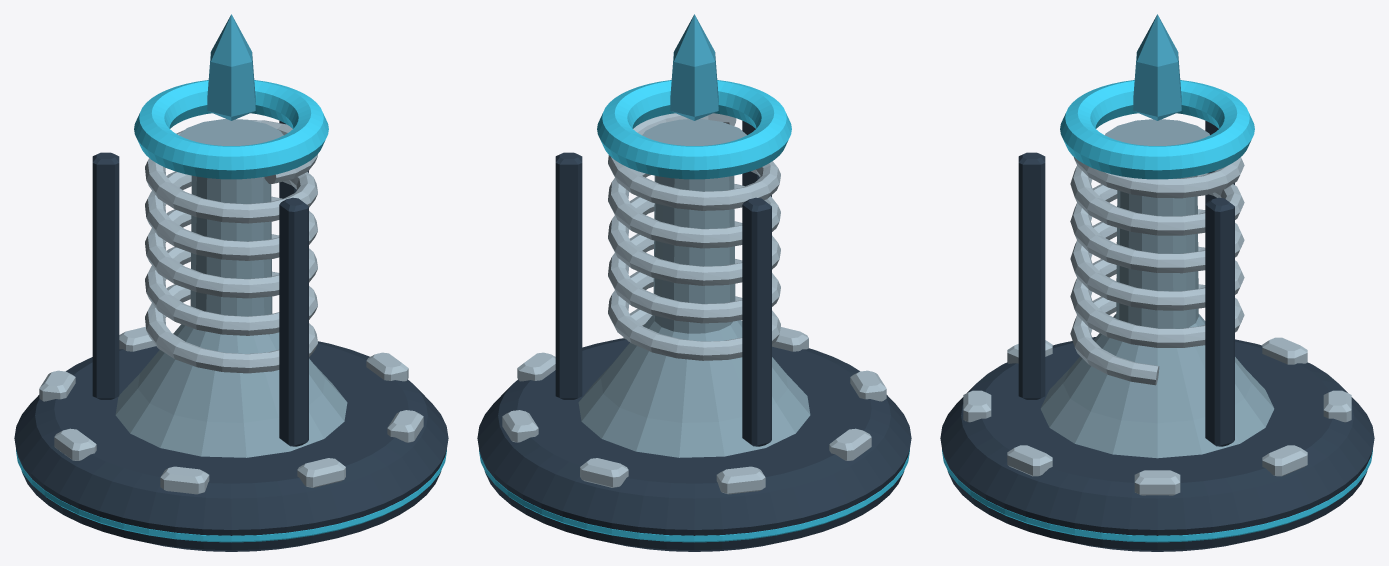
The model's file is thunder.obj.
3 renders of one model, left to right at view 1: azimuth 30°, elevation 25°; view 2: azimuth 150°, elevation 25°; view 3: azimuth 270°, elevation 25°, orthographic.
Parts seen in each view (by area): view 1: thunder; view 2: thunder; view 3: thunder.
Part boxes in pixels (x1,y1,x2,y2): thunder: (14,14,448,551); thunder: (477,14,911,551); thunder: (940,14,1374,551).
Size of the model in its own units: 0.294 by 0.346 by 0.294.
